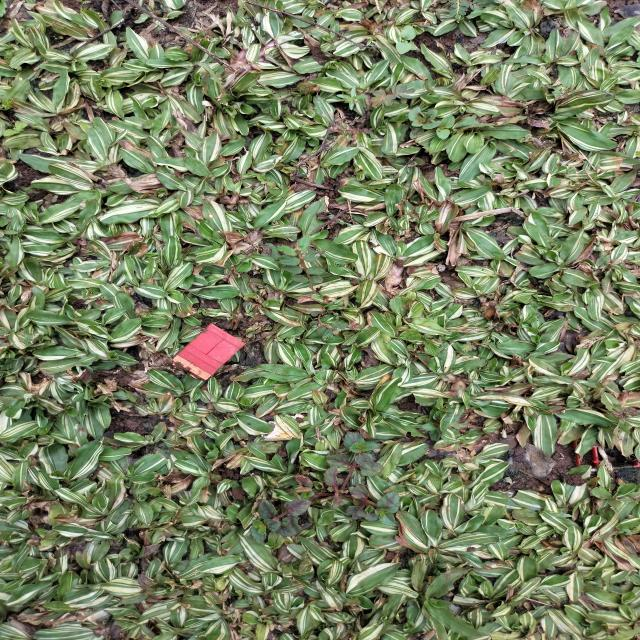buah daun: (369, 83, 417, 109), (446, 0, 492, 24), (458, 335, 494, 353)
tunggang tengah: (274, 233, 327, 296), (300, 309, 350, 340)
ungu tunggang: (251, 429, 403, 543), (407, 106, 457, 140)
